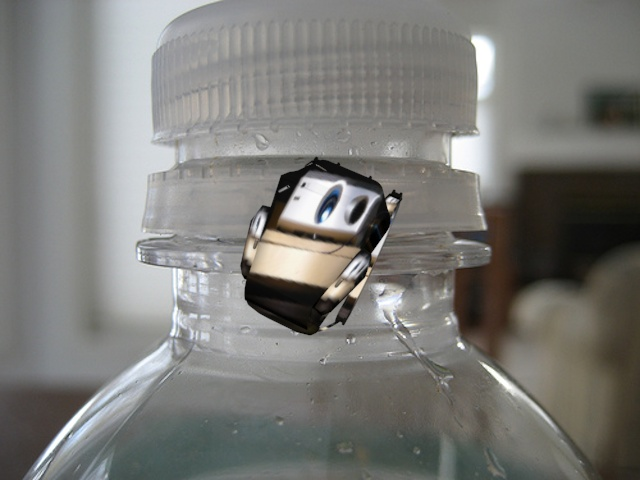back_pack: (240, 153, 408, 337)
